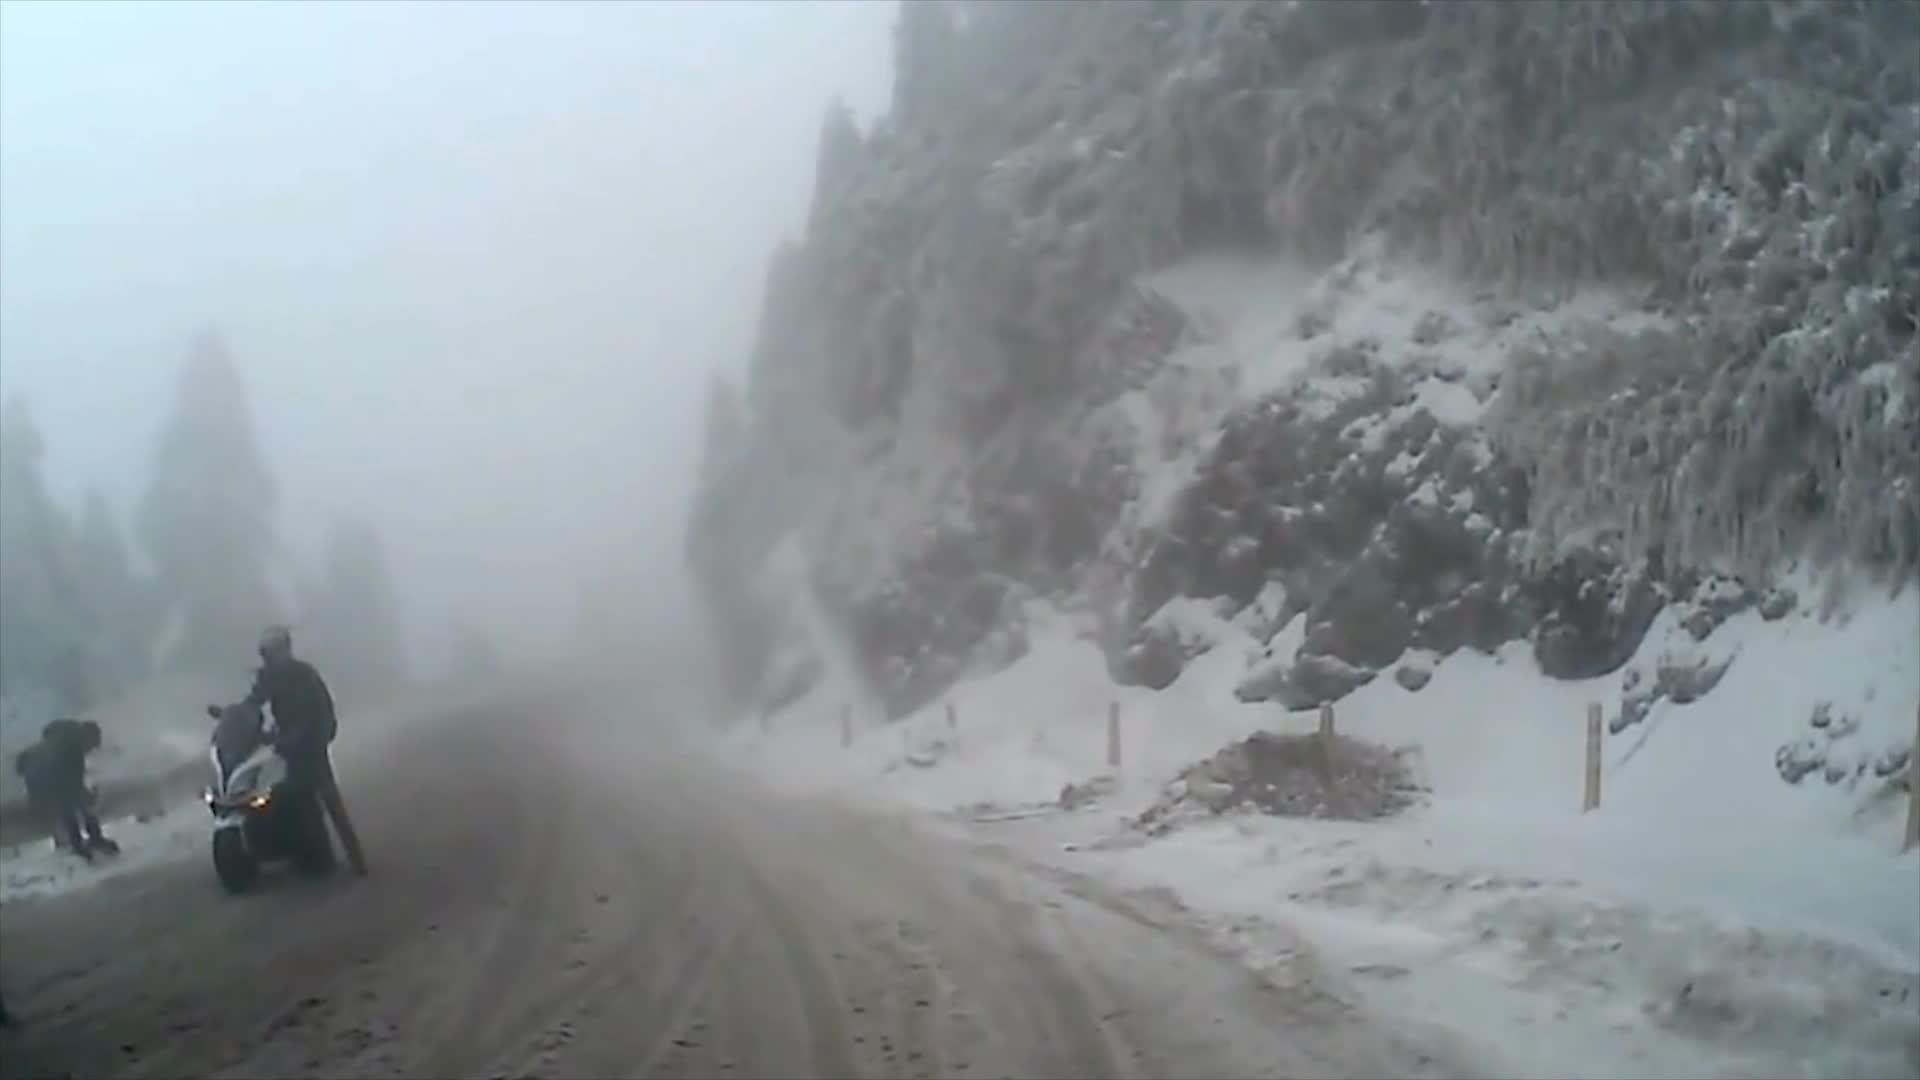pedestrian: (216, 616, 367, 879), (16, 720, 116, 862)
